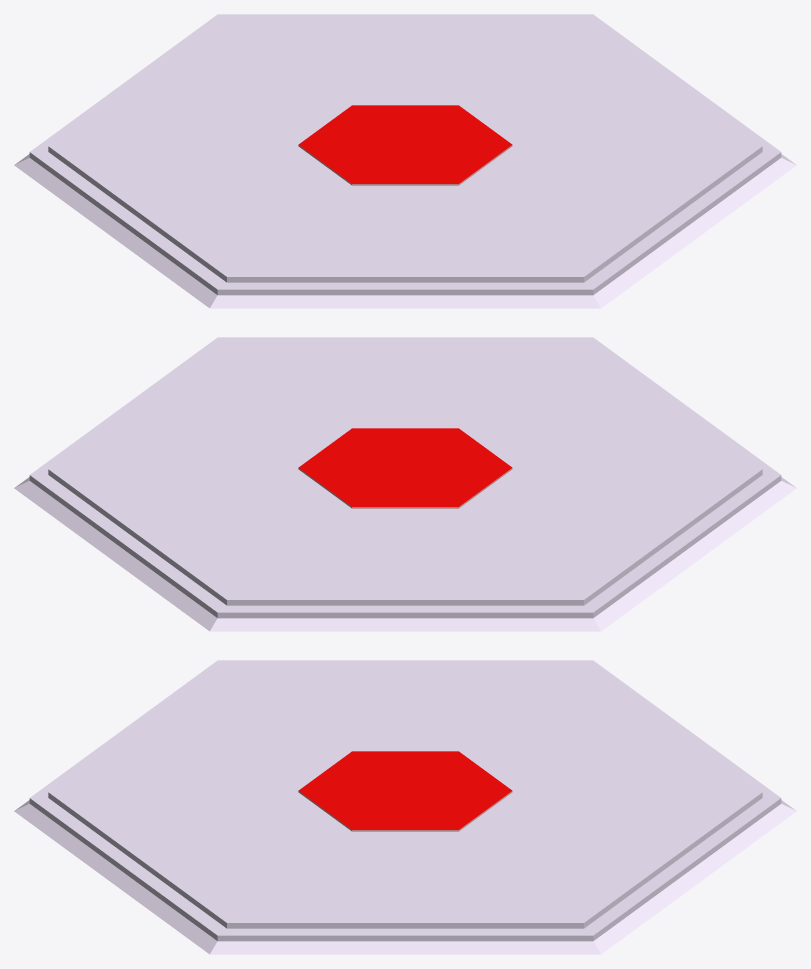
Rendered from inisPisti.gltf.
3 renders of one model, top to bottom at view 1: azimuth 30°, elevation 25°; view 2: azimuth 150°, elevation 25°; view 3: azimuth 270°, elevation 25°, orthographic.
Visible parts, largest first — view 1: Cylinder.001; view 2: Cylinder.001; view 3: Cylinder.001.
Part boxes in pixels (bbox=[...]): Cylinder.001: bbox=[14, 14, 796, 308]; Cylinder.001: bbox=[14, 337, 796, 631]; Cylinder.001: bbox=[14, 660, 796, 954].
Size of the model in its own units: 9.7 by 0.3245 by 11.2.
Materials: 1 (1 with a texture image).
